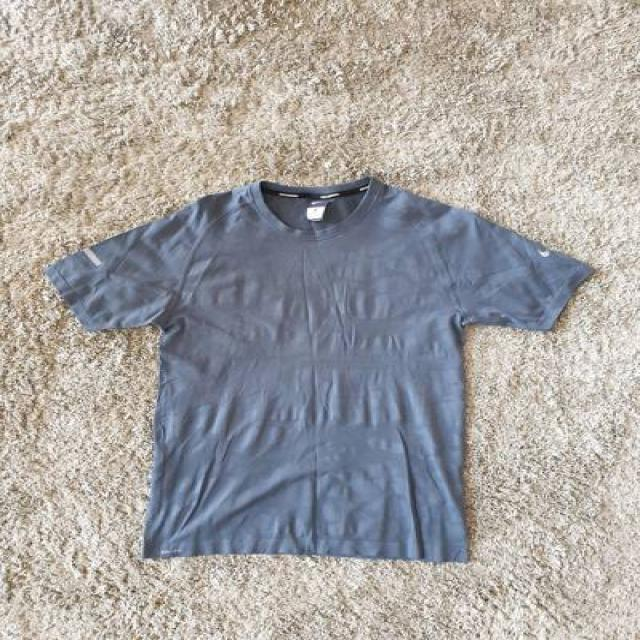Clothes -Biodegradable-: (48, 179, 595, 560)
